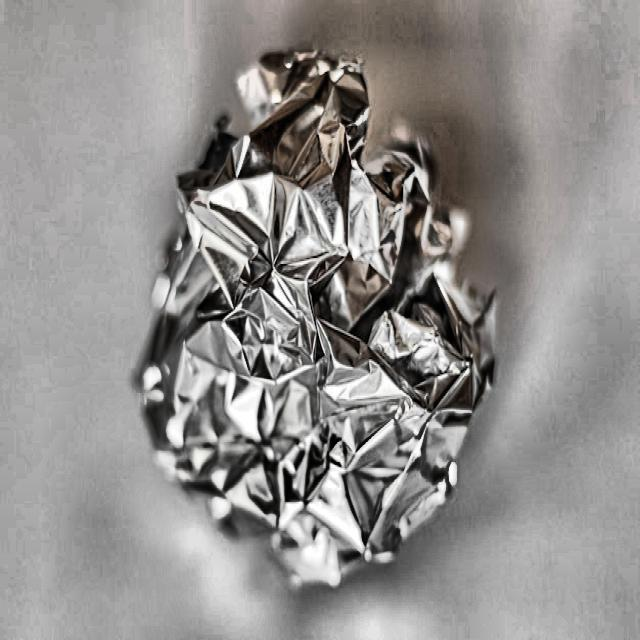Foil: (114, 21, 508, 590)
